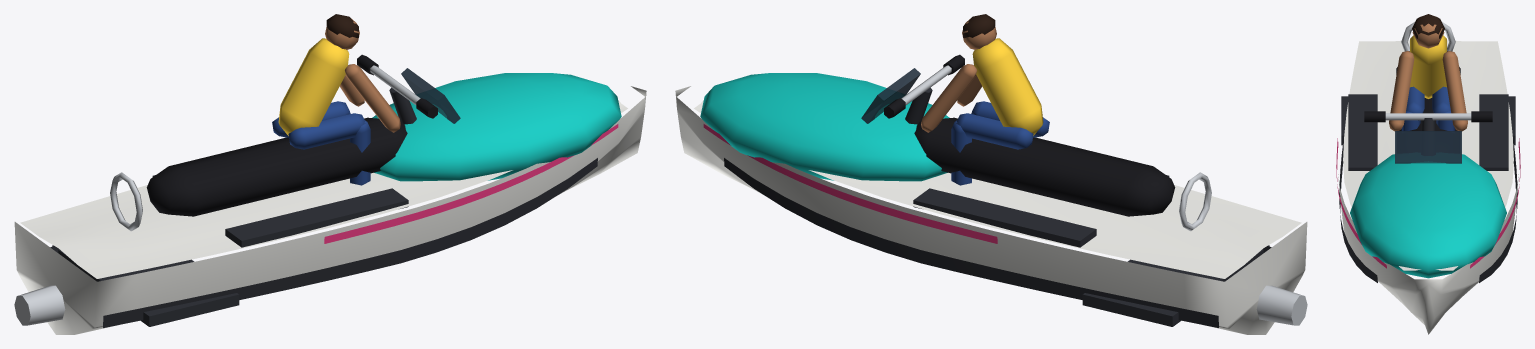
File: jet-ski.glb
3 views of the same model, side by side, from view 1: azimuth 30°, elevation 25°; view 2: azimuth 150°, elevation 25°; view 3: azimuth 270°, elevation 25° (orthographic). The views are drawn at different scales.
Visible parts, largest first — view 1: Mesh_Hull, Mesh_Cowl, Mesh_Deck, Mesh_Saddle, Mesh_HullStripeS, Mesh_RiderBody, Mesh_FootWellS, Mesh_Trim_FlashS, Mesh_Sponson, Mesh_RiderThighS, Mesh_Nozzle, Mesh_RiderArmS (+7 smaller); view 2: Mesh_Hull, Mesh_Cowl, Mesh_Deck, Mesh_Saddle, Mesh_HullStripeP, Mesh_RiderBody, Mesh_FootWellP, Mesh_Trim_FlashP, Mesh_Sponson, Mesh_RiderThighP, Mesh_Nozzle, Mesh_RiderArmP (+7 smaller); view 3: Mesh_Cowl, Mesh_Deck, Mesh_Hull, Mesh_Screen, Mesh_FootWellS, Mesh_FootWellP, Mesh_RiderBody, Mesh_RiderArmS, Mesh_RiderArmP, Mesh_Bars, Mesh_HullStripeP, Mesh_HullStripeS (+14 smaller).
Part boxes in pixels (left/top/right/bottom): Mesh_Hull: left=14, top=86, right=646, bottom=334; Mesh_Cowl: left=372, top=73, right=621, bottom=181; Mesh_Deck: left=20, top=100, right=627, bottom=278; Mesh_Saddle: left=146, top=117, right=407, bottom=216; Mesh_HullStripeS: left=103, top=158, right=597, bottom=327; Mesh_RiderBody: left=278, top=38, right=349, bottom=135; Mesh_FootWellS: left=225, top=188, right=408, bottom=247; Mesh_Trim_FlashS: left=324, top=124, right=618, bottom=243; Mesh_Sponson: left=52, top=245, right=239, bottom=326; Mesh_RiderThighS: left=288, top=113, right=365, bottom=149; Mesh_Nozzle: left=14, top=285, right=65, bottom=325; Mesh_RiderArmS: left=345, top=64, right=400, bottom=132; Mesh_Hull: left=675, top=86, right=1307, bottom=334; Mesh_Cowl: left=700, top=73, right=949, bottom=181; Mesh_Deck: left=694, top=100, right=1301, bottom=278; Mesh_Saddle: left=914, top=117, right=1175, bottom=216; Mesh_HullStripeP: left=724, top=158, right=1218, bottom=327; Mesh_RiderBody: left=972, top=38, right=1043, bottom=135; Mesh_FootWellP: left=913, top=188, right=1096, bottom=247; Mesh_Trim_FlashP: left=703, top=124, right=997, bottom=243; Mesh_Sponson: left=1082, top=245, right=1269, bottom=326; Mesh_RiderThighP: left=956, top=113, right=1033, bottom=149; Mesh_Nozzle: left=1256, top=285, right=1307, bottom=325; Mesh_RiderArmP: left=921, top=64, right=976, bottom=132; Mesh_Cowl: left=1350, top=154, right=1506, bottom=278; Mesh_Deck: left=1343, top=40, right=1513, bottom=270; Mesh_Hull: left=1338, top=174, right=1518, bottom=334; Mesh_Screen: left=1395, top=131, right=1461, bottom=163; Mesh_FootWellS: left=1348, top=94, right=1377, bottom=170; Mesh_FootWellP: left=1479, top=94, right=1508, bottom=170; Mesh_RiderBody: left=1410, top=35, right=1446, bottom=98; Mesh_RiderArmS: left=1389, top=51, right=1414, bottom=131; Mesh_RiderArmP: left=1442, top=51, right=1467, bottom=131; Mesh_Bars: left=1385, top=113, right=1471, bottom=120; Mesh_HullStripeP: left=1479, top=135, right=1517, bottom=282; Mesh_HullStripeS: left=1339, top=135, right=1377, bottom=282.
Size of the model in its own units: 4.86 by 1.86 by 1.38.
